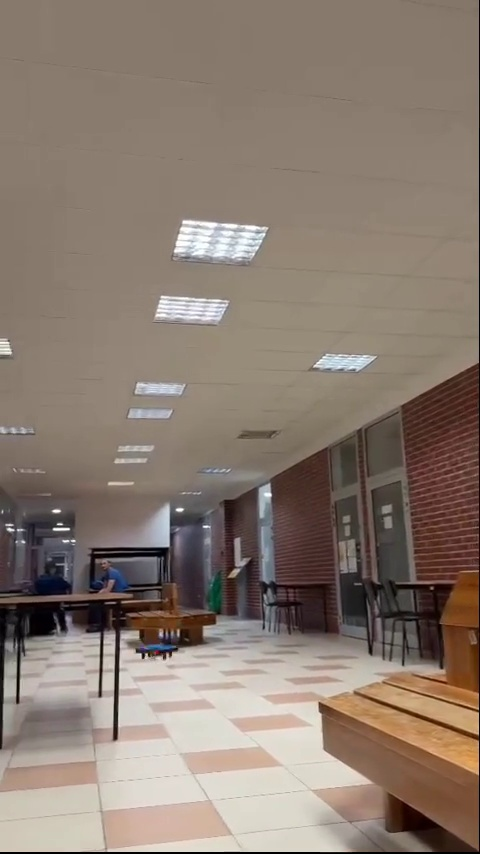drone: (144, 640, 179, 655)
no vest: (86, 554, 128, 608), (26, 559, 66, 610)
